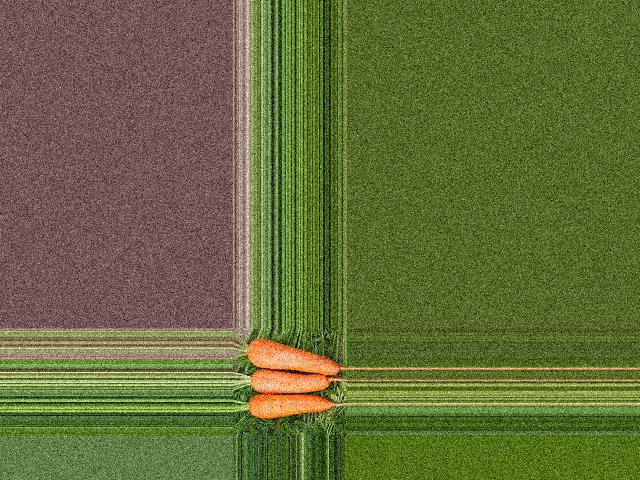carrot: (246, 337, 340, 375)
